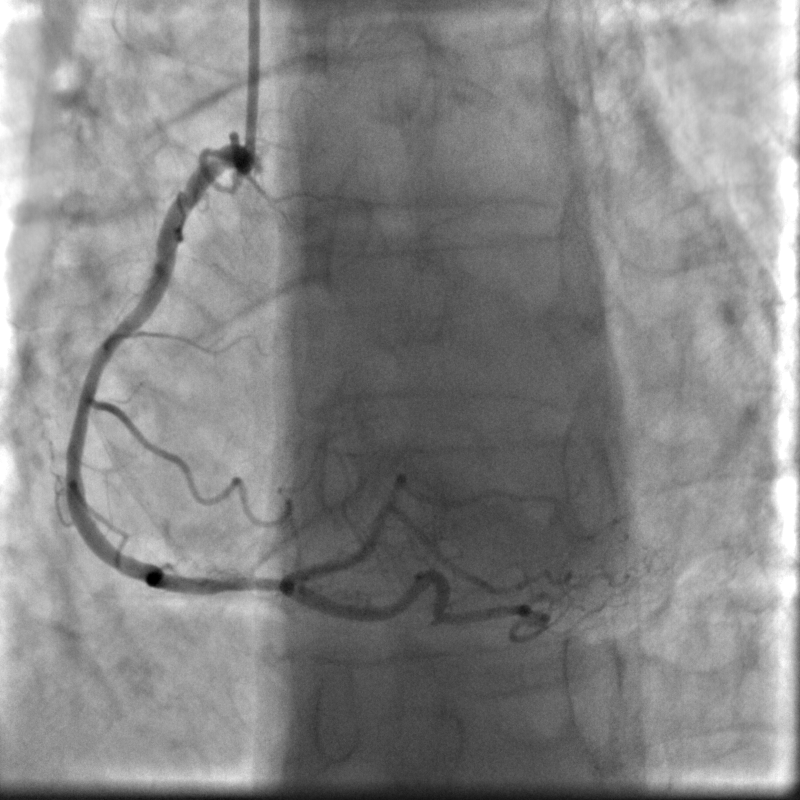Stenosis: (207, 565, 279, 605)
